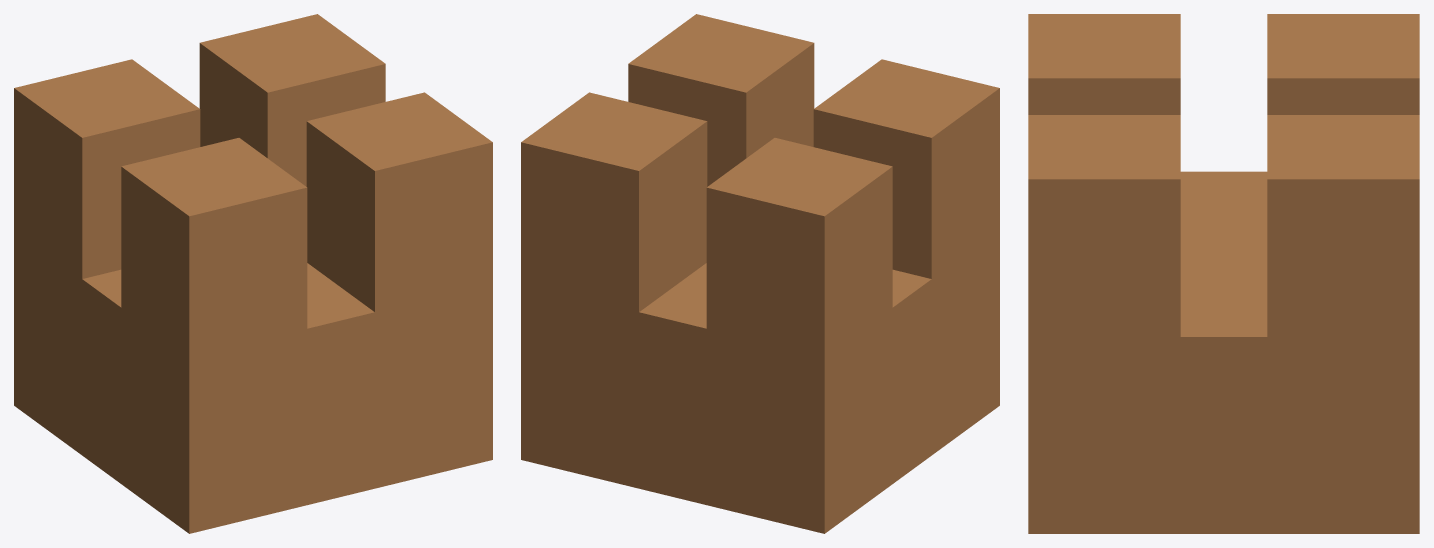
File: Thick_Intersection_Model.fbx
3 views of the same model, side by side, from view 1: azimuth 30°, elevation 25°; view 2: azimuth 150°, elevation 25°; view 3: azimuth 270°, elevation 25° (orthographic). The views are drawn at different scales.
Parts seen in each view (by area): view 1: Cube; view 2: Cube; view 3: Cube.
Boxes of the visible parts, box(x1,y1,x2,y2) form: Cube: box(14, 14, 492, 533); Cube: box(521, 14, 999, 533); Cube: box(1028, 14, 1419, 533).
Bounding box in the file's own units: 100 × 100 × 100.
